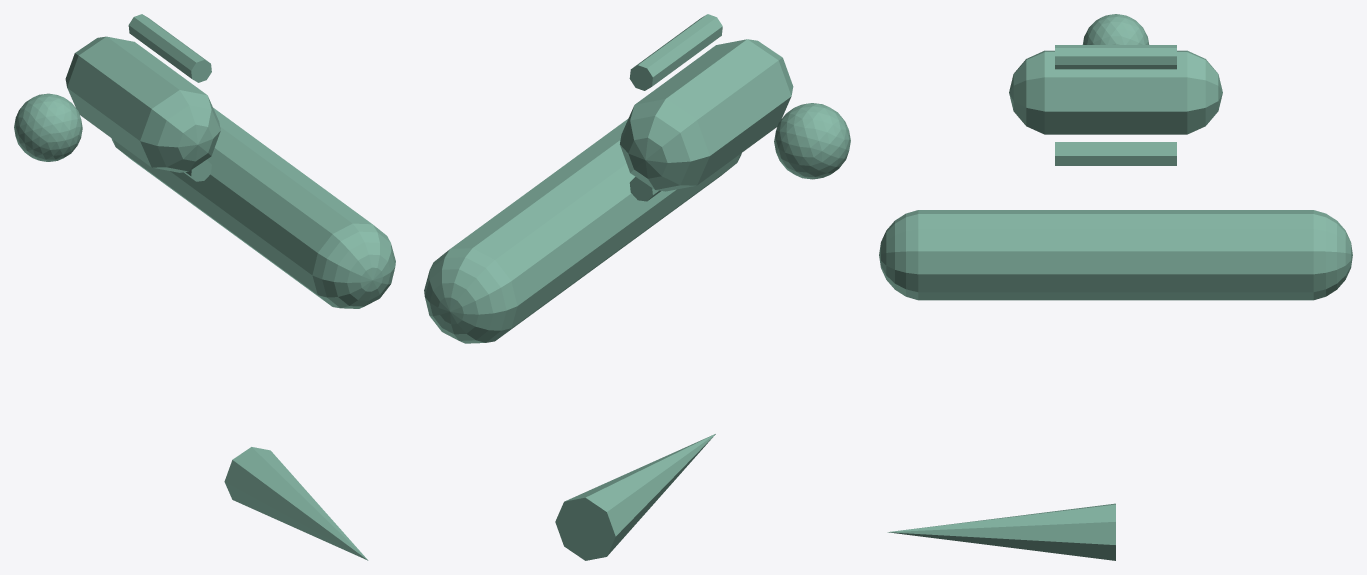
File: Lamia_A_Boss.glb
The picture shows the model from 3 angles, left to right: view 1: azimuth 30°, elevation 25°; view 2: azimuth 150°, elevation 25°; view 3: azimuth 270°, elevation 25°; orthographic projection. The views are drawn at different scales.
Parts seen in each view (by area): view 1: world; view 2: world; view 3: world.
Boxes of the visible parts, x1,y1,x2,y2 form: world: (14,14,395,560); world: (424,14,850,560); world: (879,14,1352,560).
Bounding box in the file's own units: 2.35 × 4 × 3.62.
